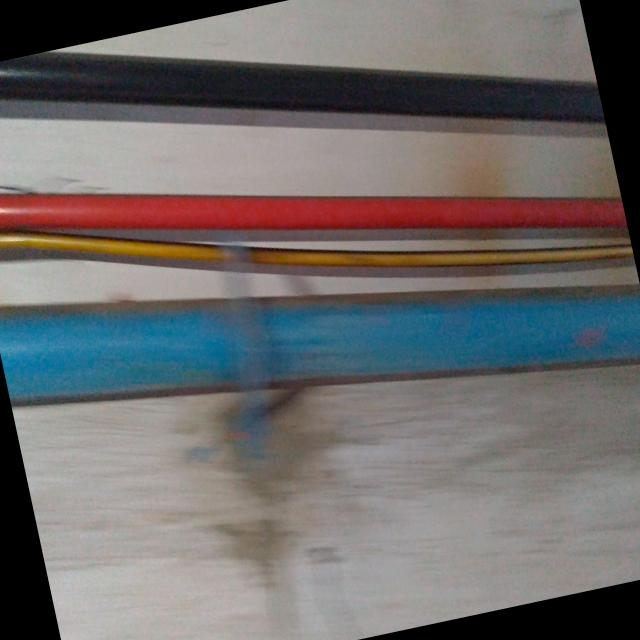gas: (0, 287, 640, 405), (0, 52, 605, 120), (0, 194, 627, 229)
